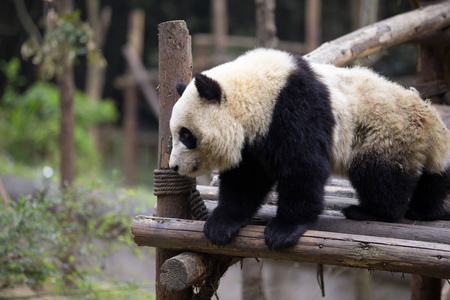panda: (151, 42, 450, 249)
